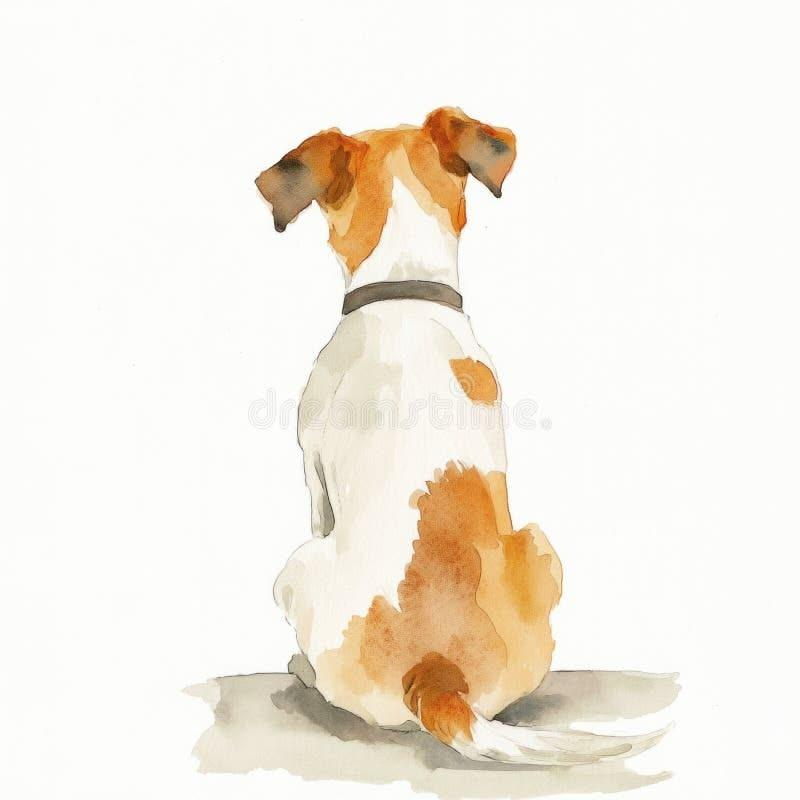adult_dog: (254, 101, 675, 772)
